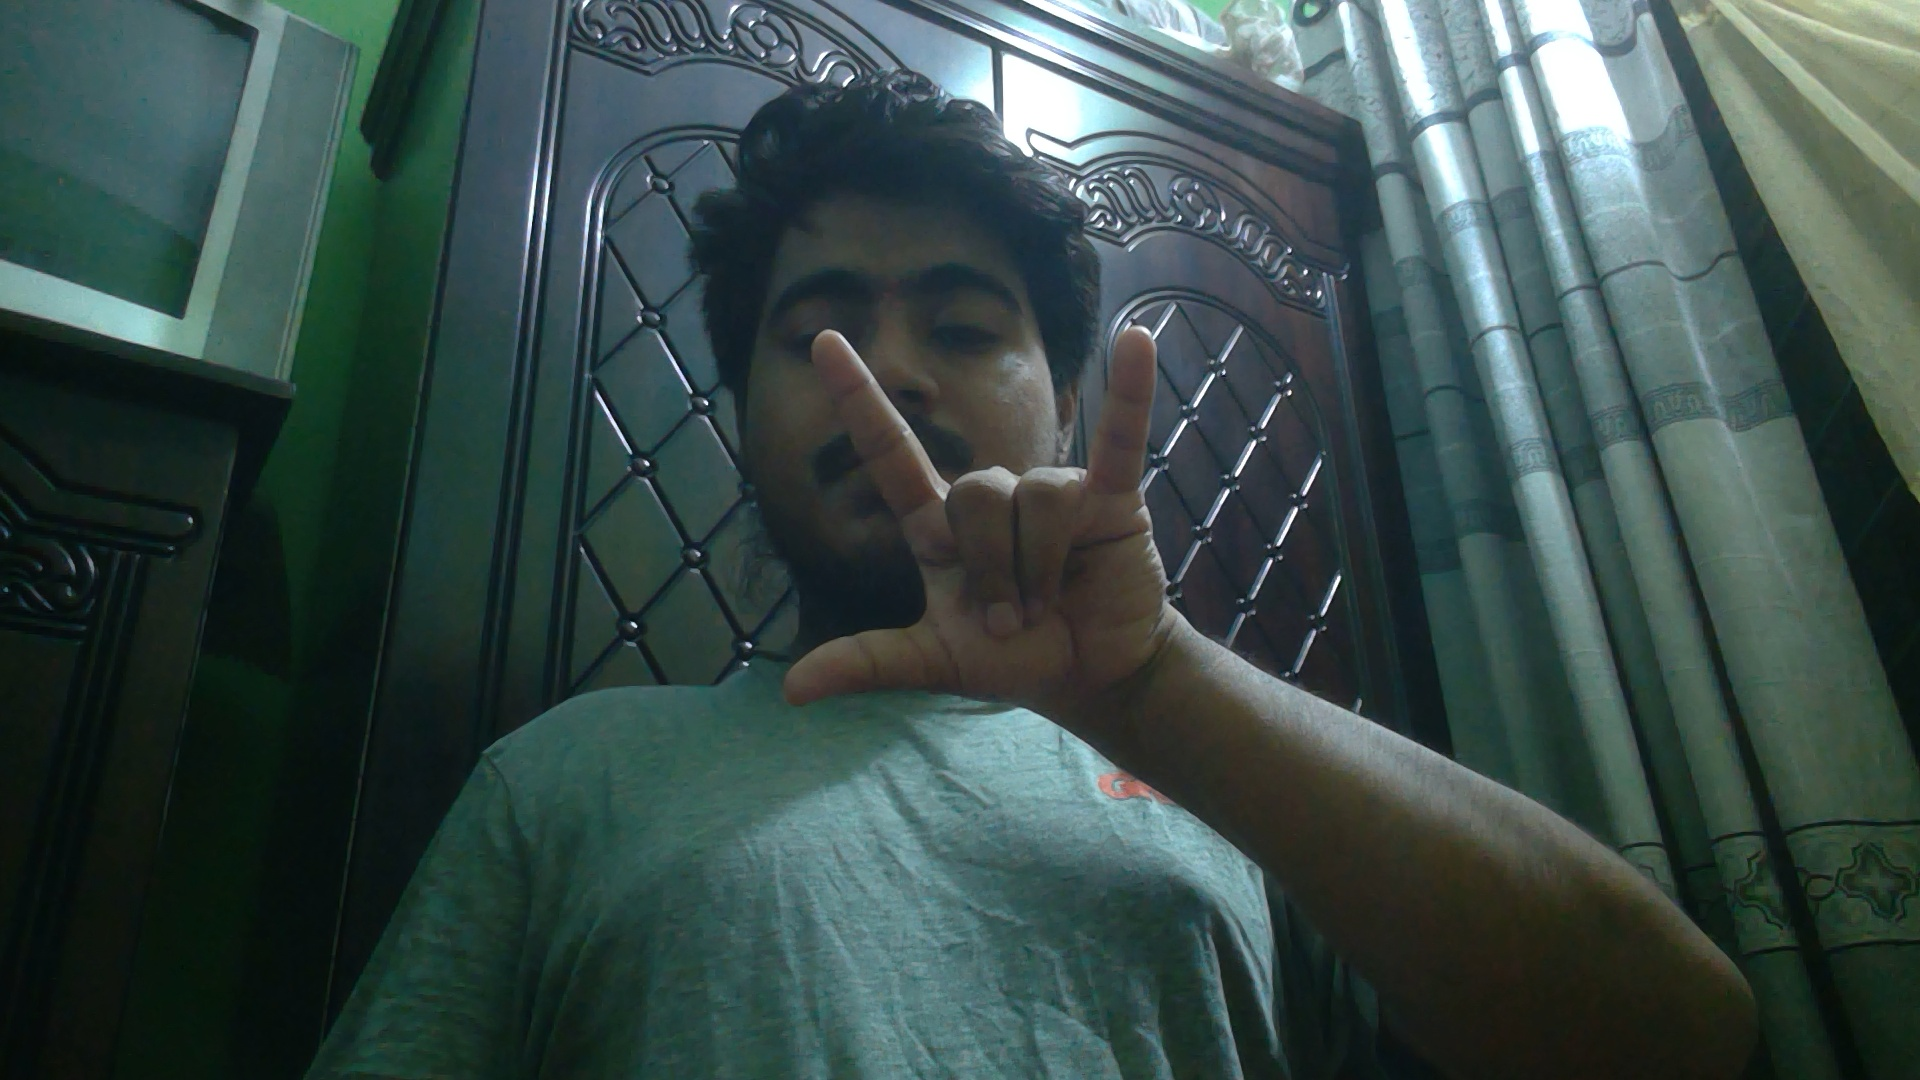Iloveyou: (781, 316, 1179, 723)
